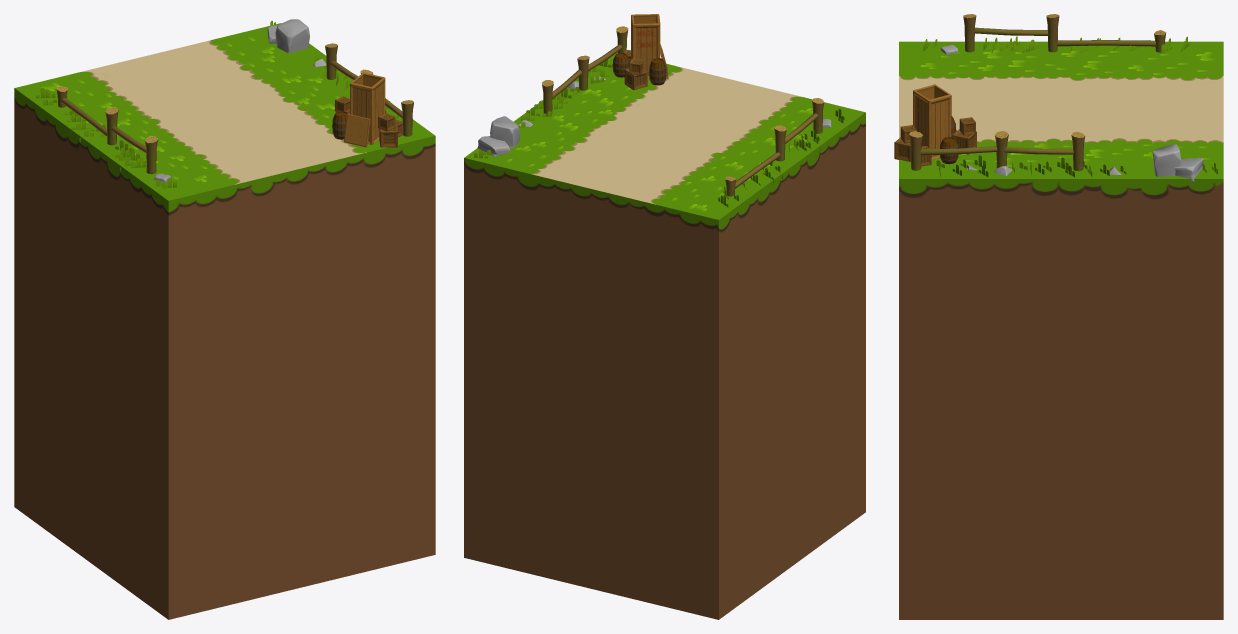
The model's file is Plataforma Cajas Izq.fbx.
3 views of the same model, side by side, from view 1: azimuth 30°, elevation 25°; view 2: azimuth 150°, elevation 25°; view 3: azimuth 270°, elevation 25° (orthographic). The views are drawn at different scales.
Visible parts, largest first — view 1: Plataforma 1.006, Cube.364, Cube.192, Cube; view 2: Plataforma 1.006, Cube.364, Cube.192; view 3: Plataforma 1.006, Cube.364, Cube.192, Cylinder.017, Cylinder.019, Cube.193, Cylinder.018, Cylinder.022, Cylinder.012.
Boxes of the visible parts, <box> form: Plataforma 1.006: <box>14,23,435,619</box>; Cube.364: <box>350,72,385,144</box>; Cube.192: <box>275,19,309,52</box>; Cube: <box>344,114,370,147</box>; Plataforma 1.006: <box>464,52,865,619</box>; Cube.364: <box>631,14,660,78</box>; Cube.192: <box>490,116,520,148</box>; Plataforma 1.006: <box>899,41,1223,619</box>; Cube.364: <box>913,84,951,159</box>; Cube.192: <box>1152,144,1181,176</box>; Cylinder.017: <box>1057,40,1156,46</box>; Cylinder.019: <box>920,146,997,155</box>; Cube.193: <box>1174,158,1203,182</box>; Cylinder.018: <box>974,27,1048,35</box>; Cylinder.022: <box>1003,147,1073,154</box>; Cylinder.012: <box>909,131,922,170</box>.
Bounding box in the file's own units: 1016 × 1703 × 1014.
